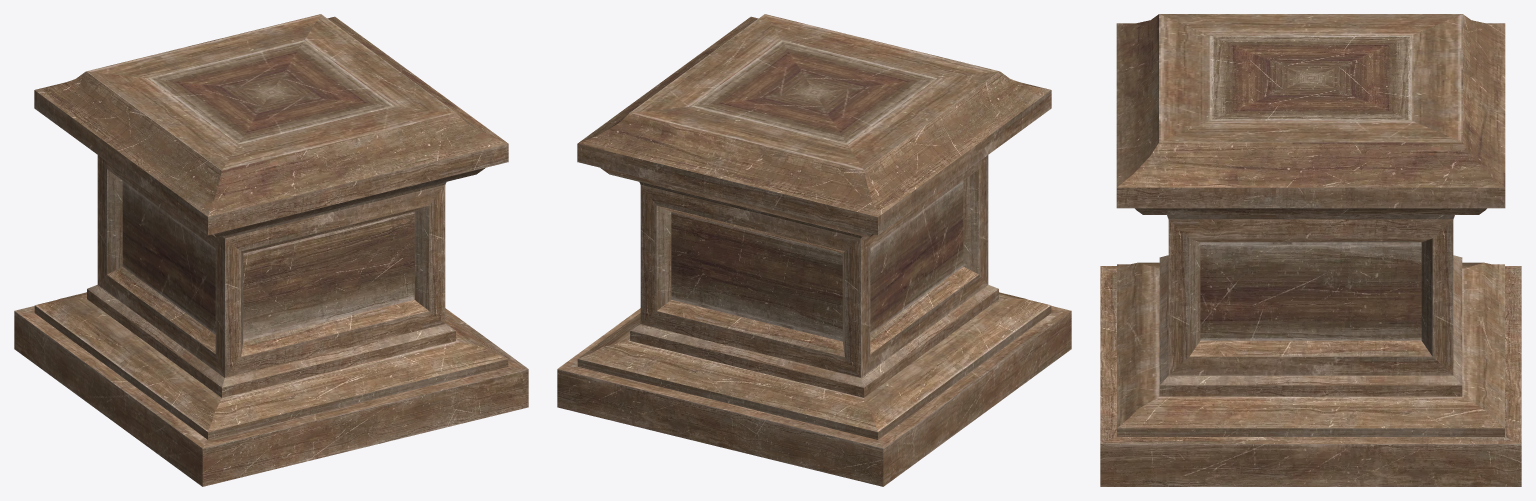
The picture shows the model from 3 angles, left to right: view 1: azimuth 30°, elevation 25°; view 2: azimuth 150°, elevation 25°; view 3: azimuth 270°, elevation 25°; orthographic projection. The views are drawn at different scales.
Visible parts, largest first — view 1: SM_DR_Statue_LibraryPlinth_A_01_LOD0; view 2: SM_DR_Statue_LibraryPlinth_A_01_LOD0; view 3: SM_DR_Statue_LibraryPlinth_A_01_LOD0.
Part boxes in pixels (x1,y1,x2,y2): SM_DR_Statue_LibraryPlinth_A_01_LOD0: (14,14,528,486); SM_DR_Statue_LibraryPlinth_A_01_LOD0: (557,14,1071,486); SM_DR_Statue_LibraryPlinth_A_01_LOD0: (1100,14,1521,486).
Size of the model in its own units: 2.14 by 1.79 by 2.14.
Materials: 1 (1 with a texture image).
